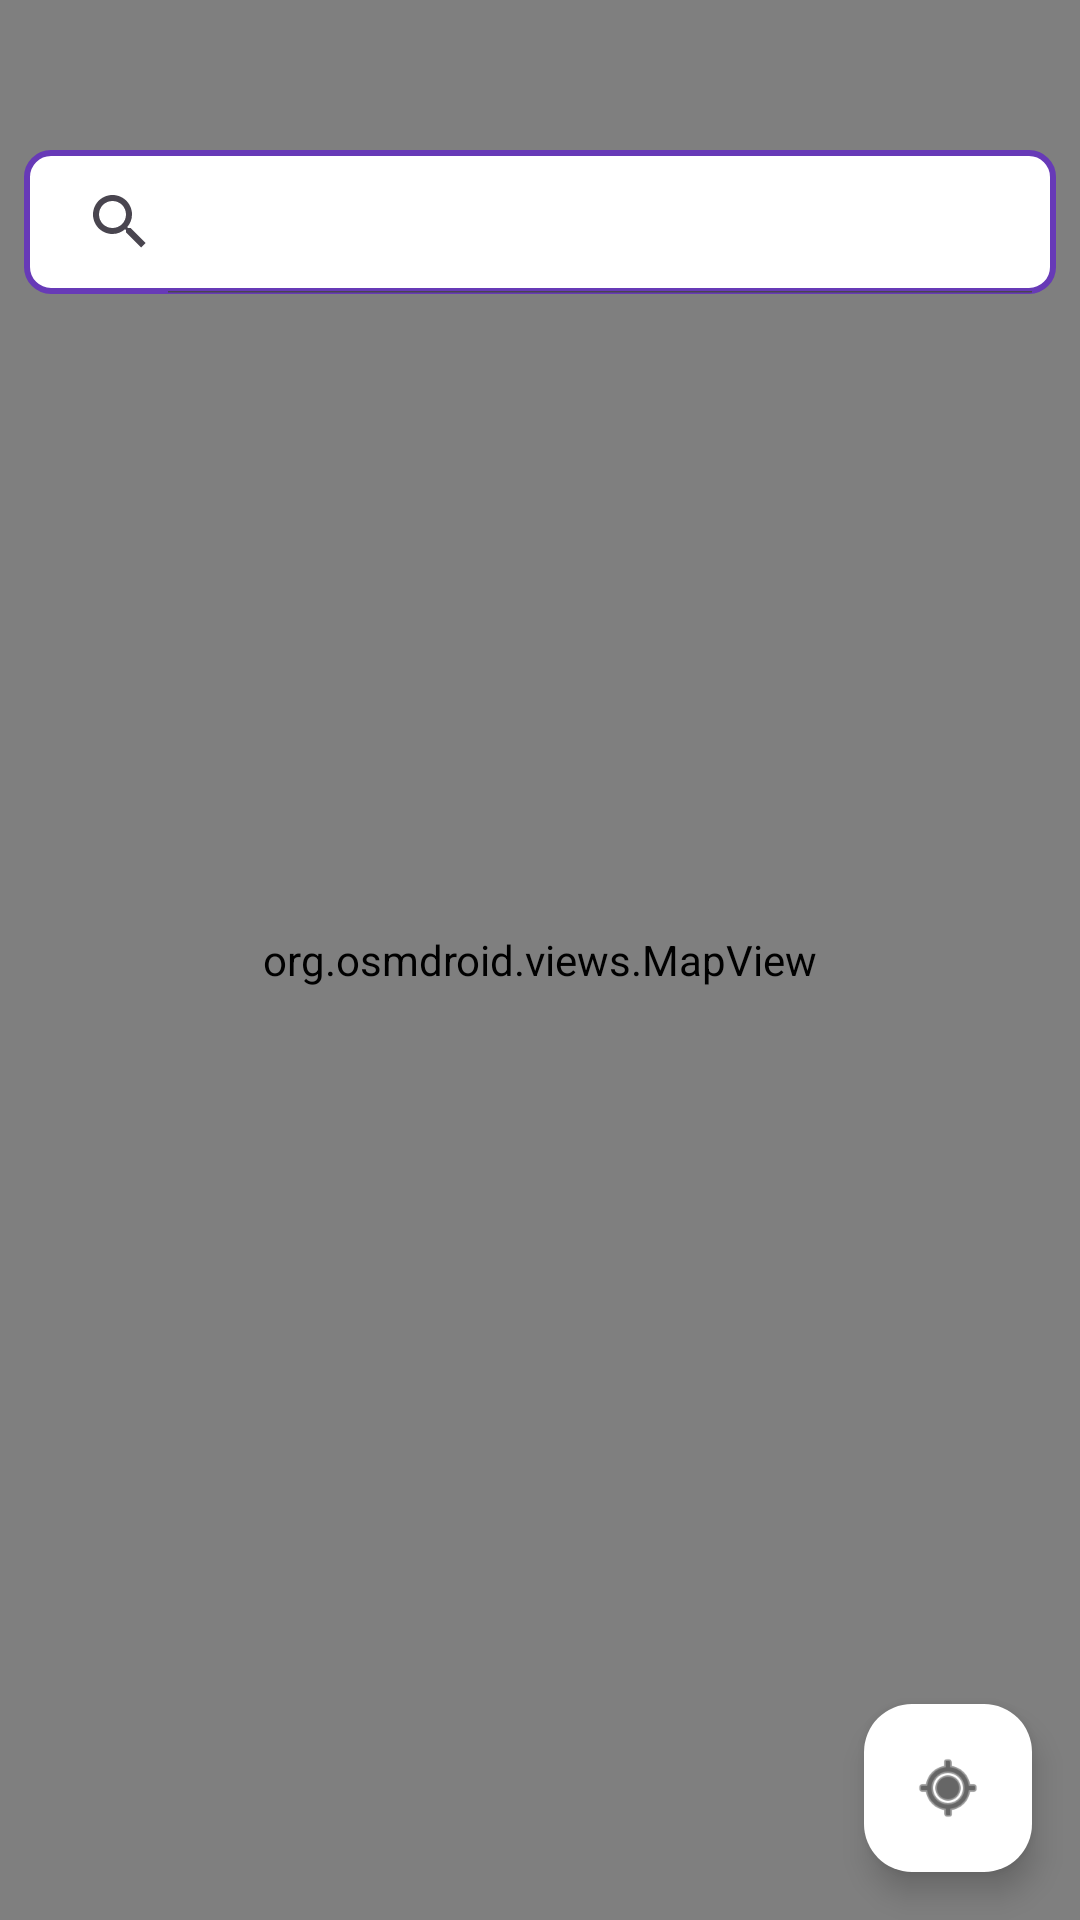

Named icons in this screenshot (1080 × 1920) and their bounding boxes, box=[x1, y1, x2, y2]:
mylocation: box=[864, 1704, 1032, 1872]
